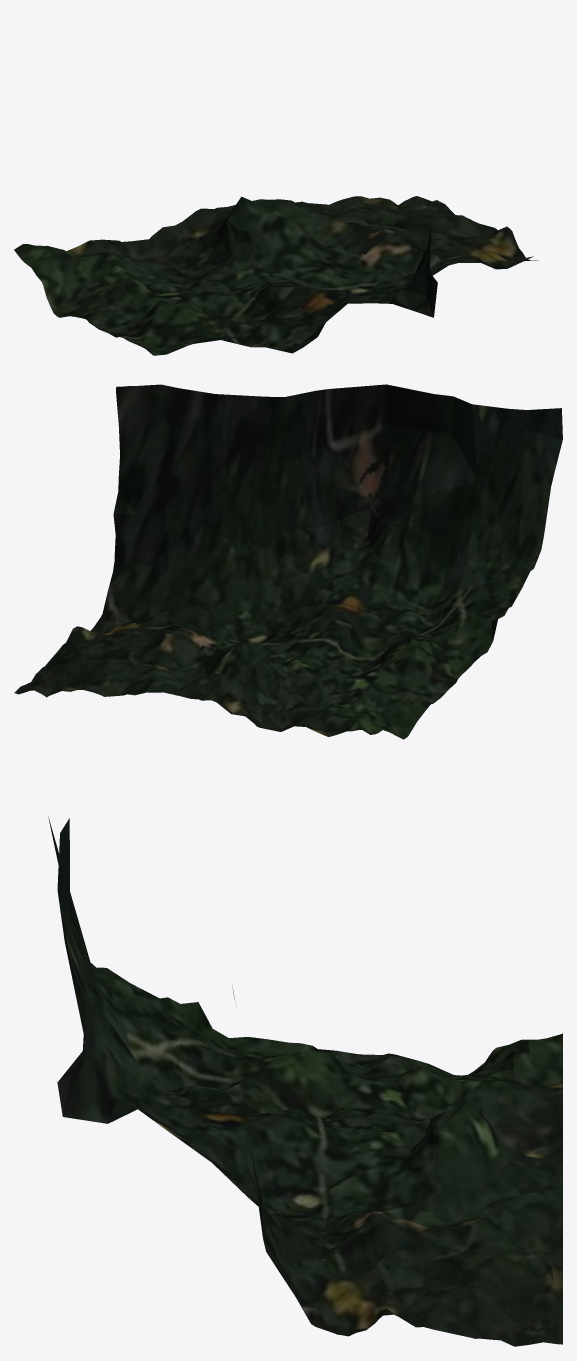
3 views of the same model, one above another, from view 1: azimuth 30°, elevation 25°; view 2: azimuth 150°, elevation 25°; view 3: azimuth 270°, elevation 25° (orthographic). The views are drawn at different scales.
Bounding box in the file's own units: 0.8374 × 0.5234 × 0.7859.
3 materials, 3 textured.
